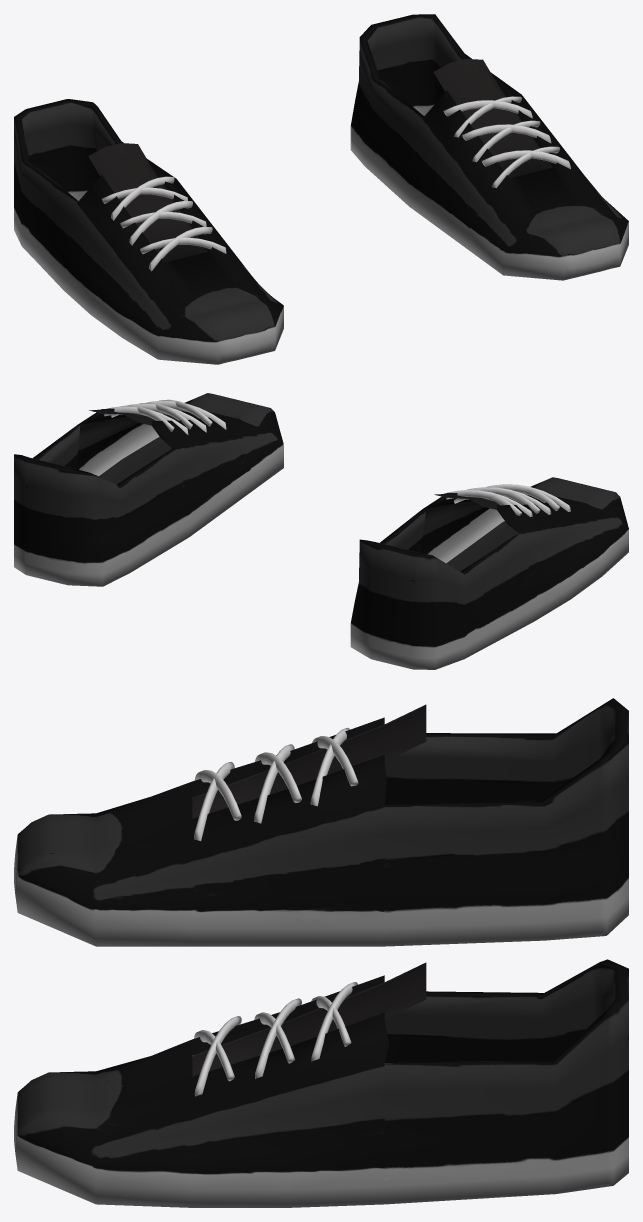
The model's file is shoes.fbx.
3 views of the same model, one above another, from view 1: azimuth 30°, elevation 25°; view 2: azimuth 150°, elevation 25°; view 3: azimuth 270°, elevation 25° (orthographic). The views are drawn at different scales.
Visible parts, largest first — view 1: shoesL, shoesR; view 2: shoesR, shoesL; view 3: shoesR, shoesL.
Boxes of the visible parts, <box> form: shoesL: <box>350,14,628,280</box>; shoesR: <box>14,99,283,364</box>; shoesR: <box>350,477,628,669</box>; shoesL: <box>14,393,283,586</box>; shoesR: <box>14,698,628,946</box>; shoesL: <box>14,959,628,1207</box>.
Size of the model in its own units: 764 by 202 by 553.
